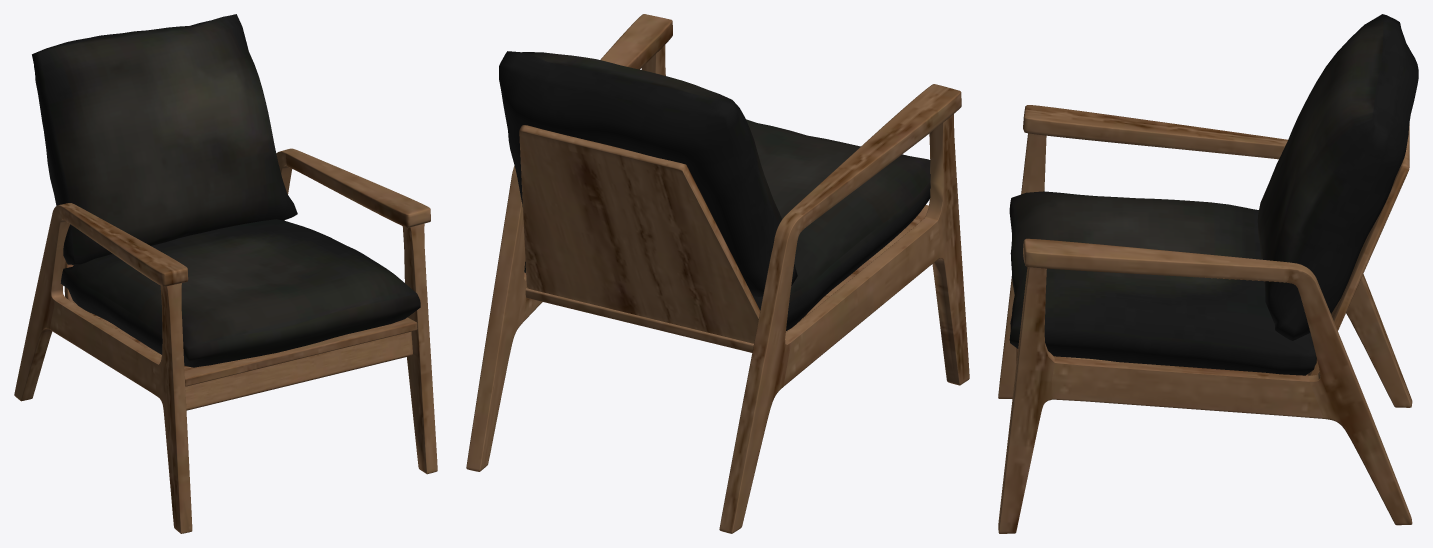
File: modern_arm_chair_01.glb
3 views of the same model, side by side, from view 1: azimuth 30°, elevation 25°; view 2: azimuth 150°, elevation 25°; view 3: azimuth 270°, elevation 25° (orthographic). The views are drawn at different scales.
Visible parts, largest first — view 1: modern_arm_chair_01; view 2: modern_arm_chair_01; view 3: modern_arm_chair_01.
Boxes of the visible parts, x1,y1,x2,y2 form: modern_arm_chair_01: (14,14,437,533); modern_arm_chair_01: (466,14,969,533); modern_arm_chair_01: (998,14,1418,533).
Bounding box in the file's own units: 0.8203 × 1.02 × 0.9865.
2 materials, 2 textured.
